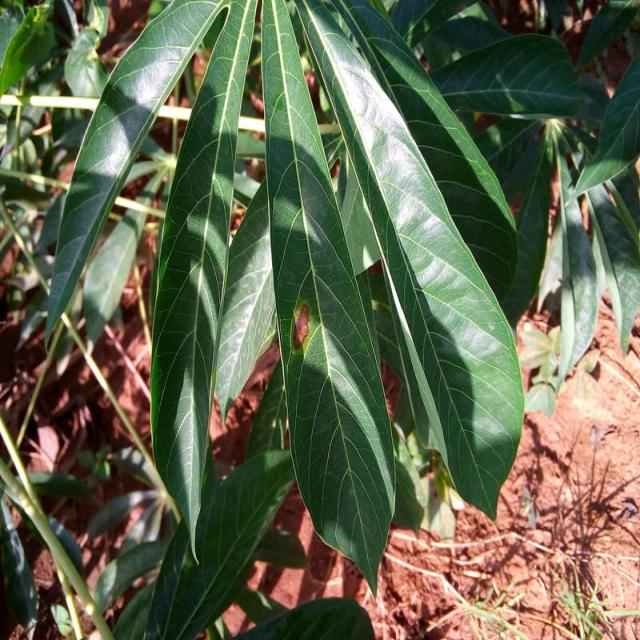cassava leaf: (302, 0, 526, 522), (259, 0, 396, 599), (42, 0, 224, 354), (148, 0, 257, 564)
